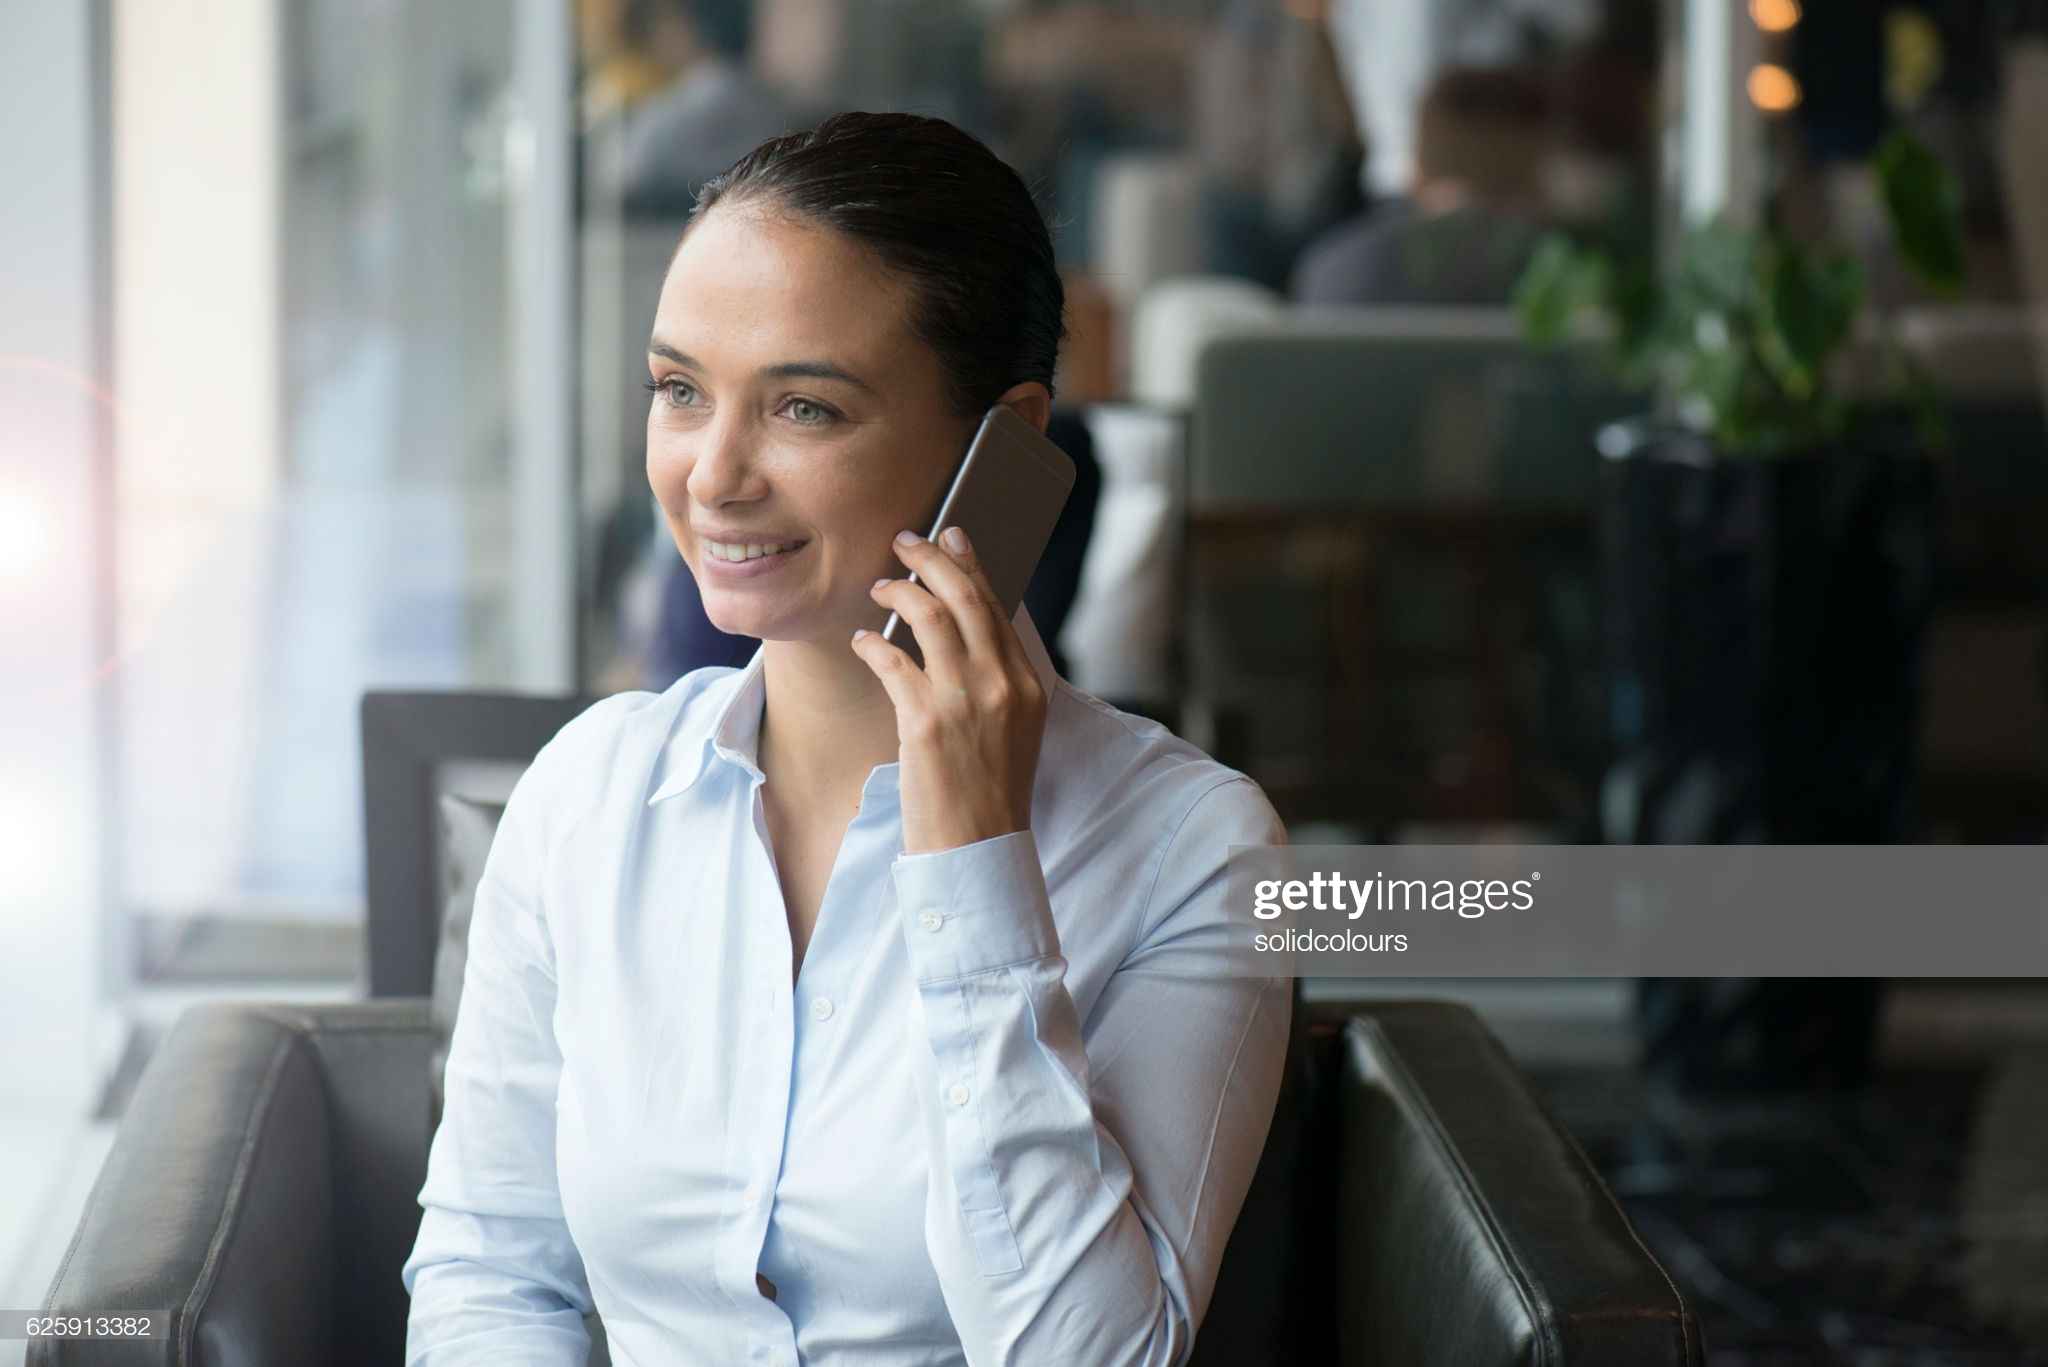phone: (881, 375, 1104, 745)
talk: (636, 330, 1144, 836)
